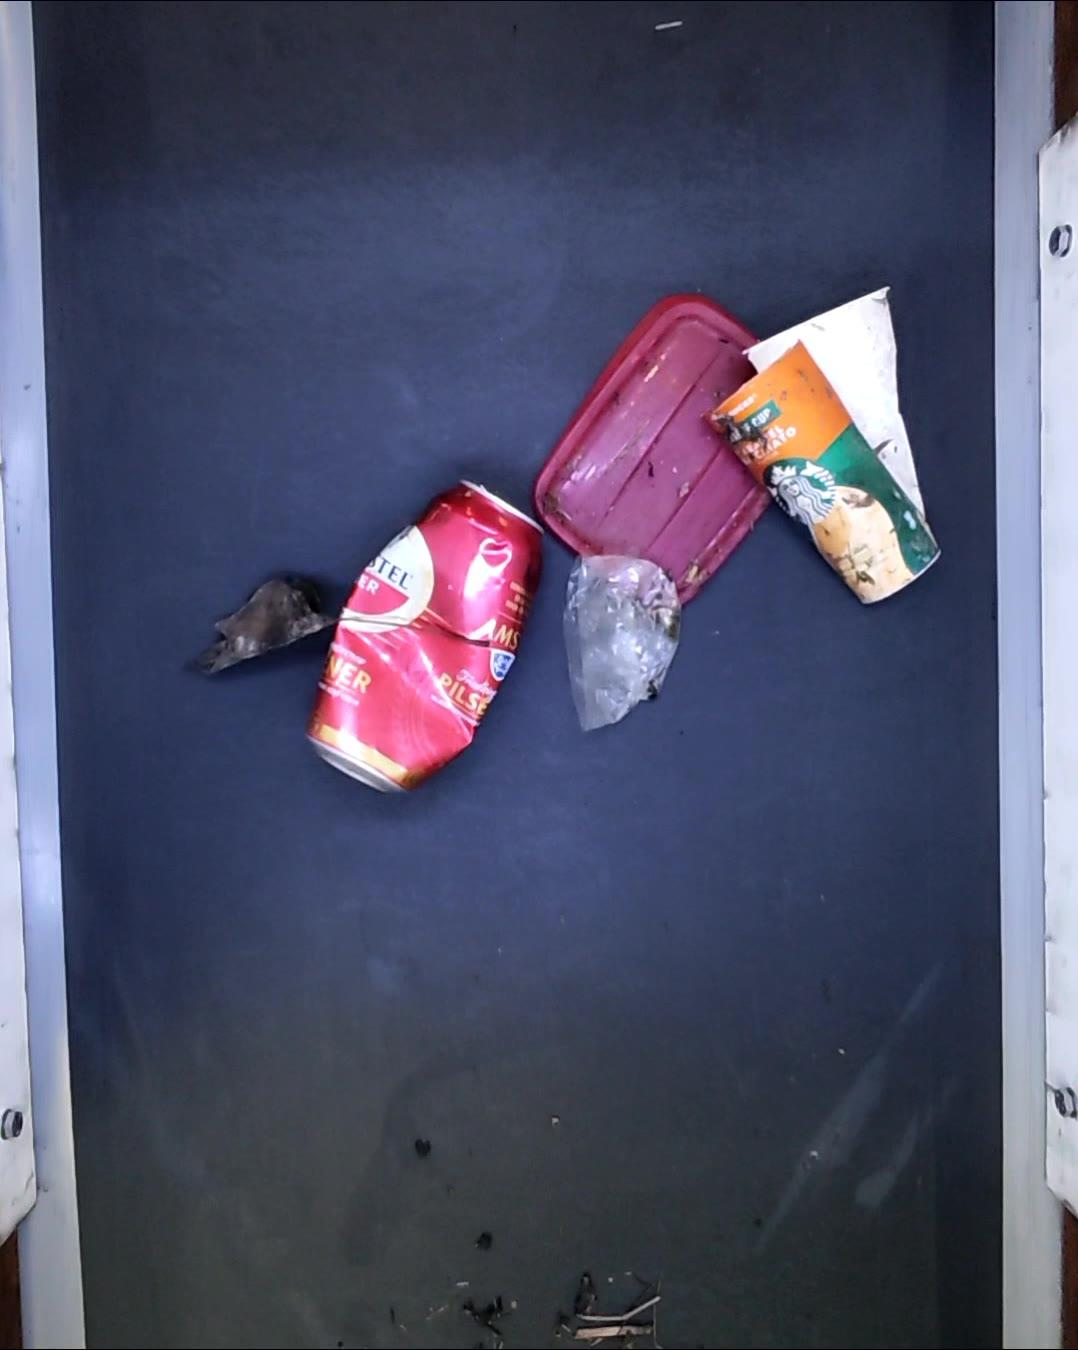Drankblikjes: (310, 481, 549, 801)
Plastic folies of stukken daarvan 2.5- 50 cm: (562, 555, 683, 733)
